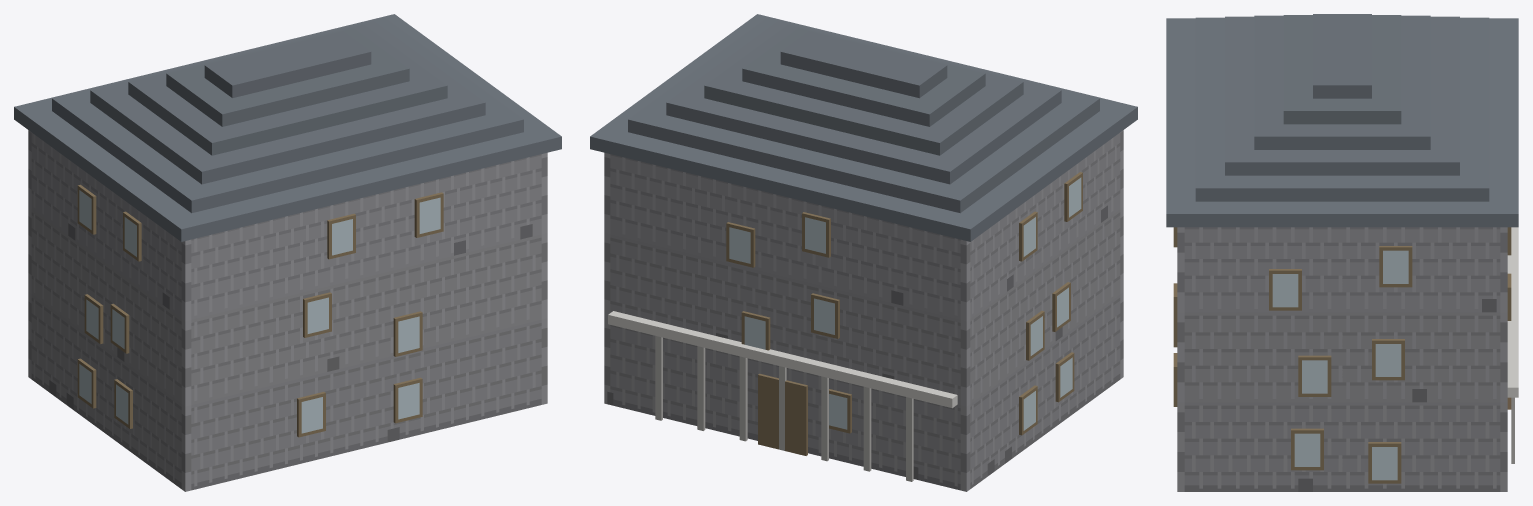
The model's file is academia_arcana_04.glb.
3 views of the same model, side by side, from view 1: azimuth 30°, elevation 25°; view 2: azimuth 150°, elevation 25°; view 3: azimuth 270°, elevation 25° (orthographic). The views are drawn at different scales.
Parts seen in each view (by area): view 1: academia_arcana_04; view 2: academia_arcana_04; view 3: academia_arcana_04.
Part boxes in pixels (<box>): academia_arcana_04: <box>14,14,561,491</box>; academia_arcana_04: <box>590,14,1137,491</box>; academia_arcana_04: <box>1166,14,1518,491</box>.
Bounding box in the file's own units: 12.6 × 10.5 × 9.6.
